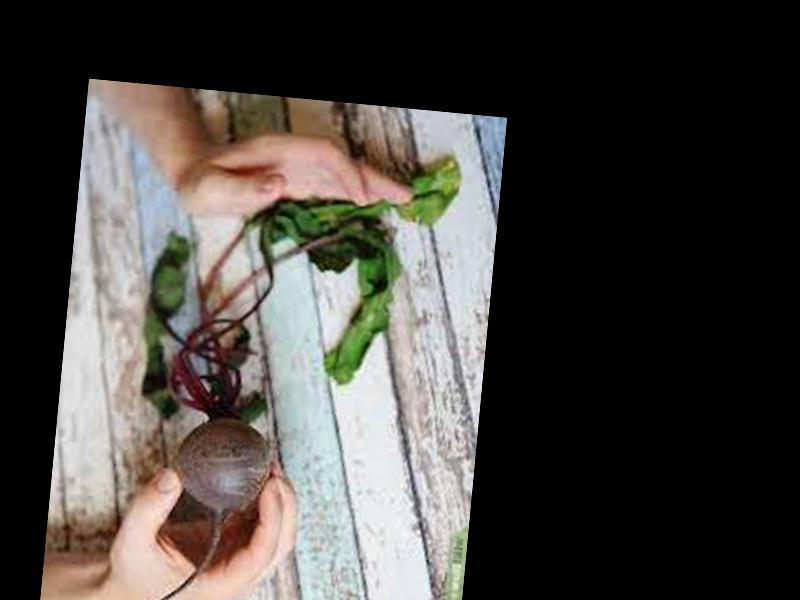Beet: (120, 131, 462, 600)
